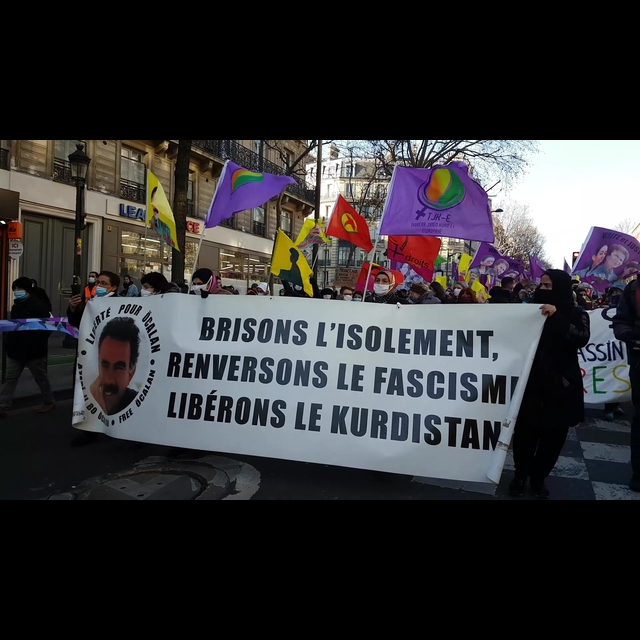APO: (87, 317, 134, 407)
PKK: (338, 210, 361, 237)
